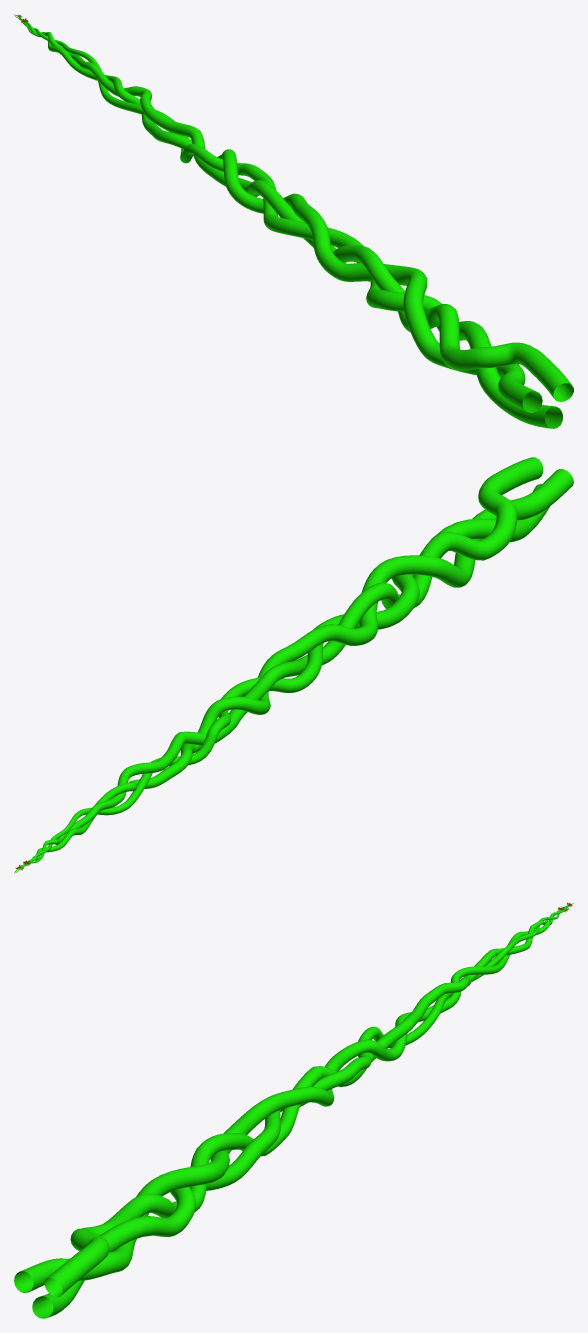
The model's file is StillVine.fbx.
The picture shows the model from 3 angles, top to bottom: view 1: azimuth 30°, elevation 25°; view 2: azimuth 150°, elevation 25°; view 3: azimuth 330°, elevation 25°; orthographic projection.
Parts seen in each view (by area): view 1: geo_vinePart1, geo_vinePart3, geo_vinePart2; view 2: geo_vinePart1, geo_vinePart3, geo_vinePart2; view 3: geo_vinePart1, geo_vinePart3, geo_vinePart2.
Boxes of the visible parts, <box> form: geo_vinePart1: <box>18,18,573,401</box>; geo_vinePart3: <box>15,16,542,412</box>; geo_vinePart2: <box>14,14,562,428</box>; geo_vinePart1: <box>19,457,543,869</box>; geo_vinePart3: <box>16,469,573,872</box>; geo_vinePart2: <box>14,484,549,873</box>; geo_vinePart1: <box>44,907,566,1297</box>; geo_vinePart3: <box>14,906,568,1293</box>; geo_vinePart2: <box>32,903,573,1318</box>.
Size of the model in its own units: 4.3 by 4.16 by 70.08.
